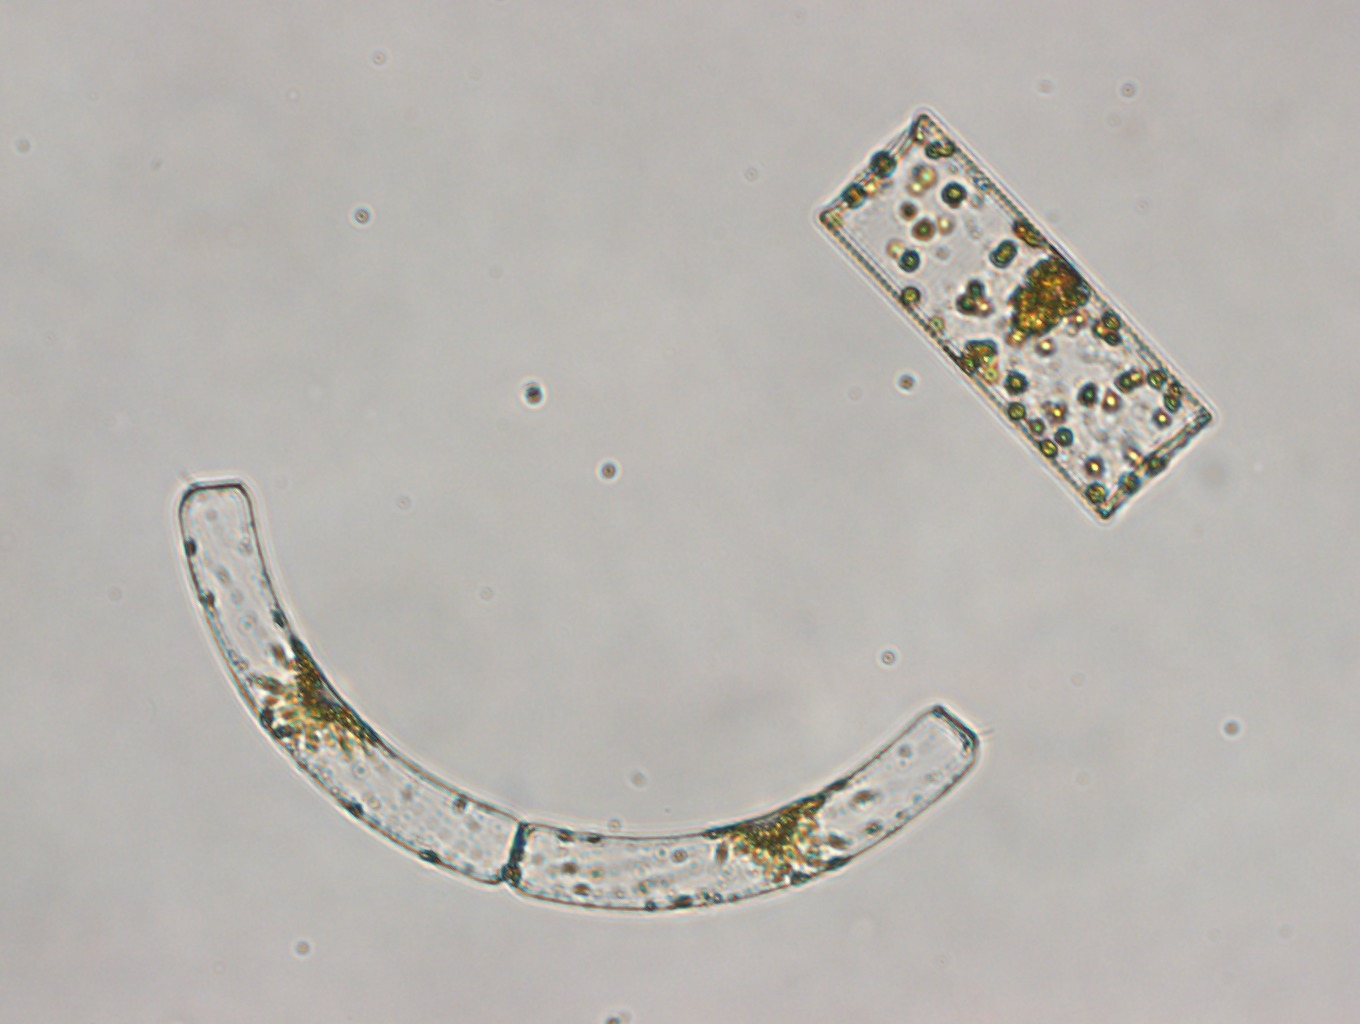guinardia flaccida: (812, 105, 1217, 526)
